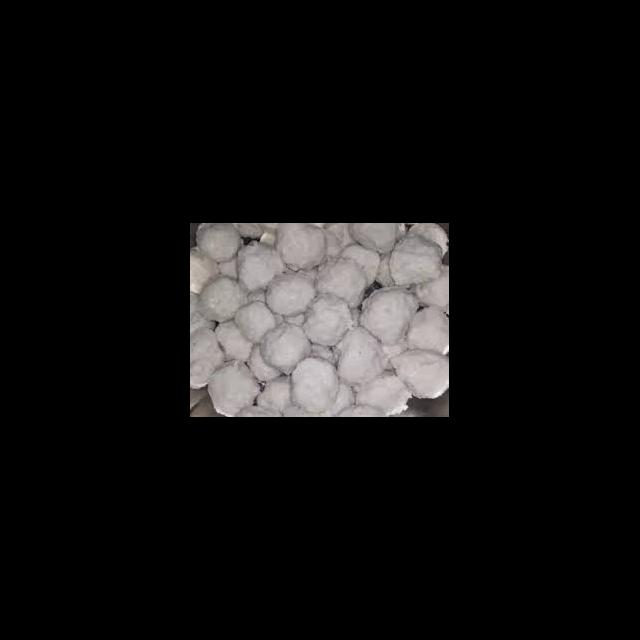food_waste: (237, 253, 404, 371)
